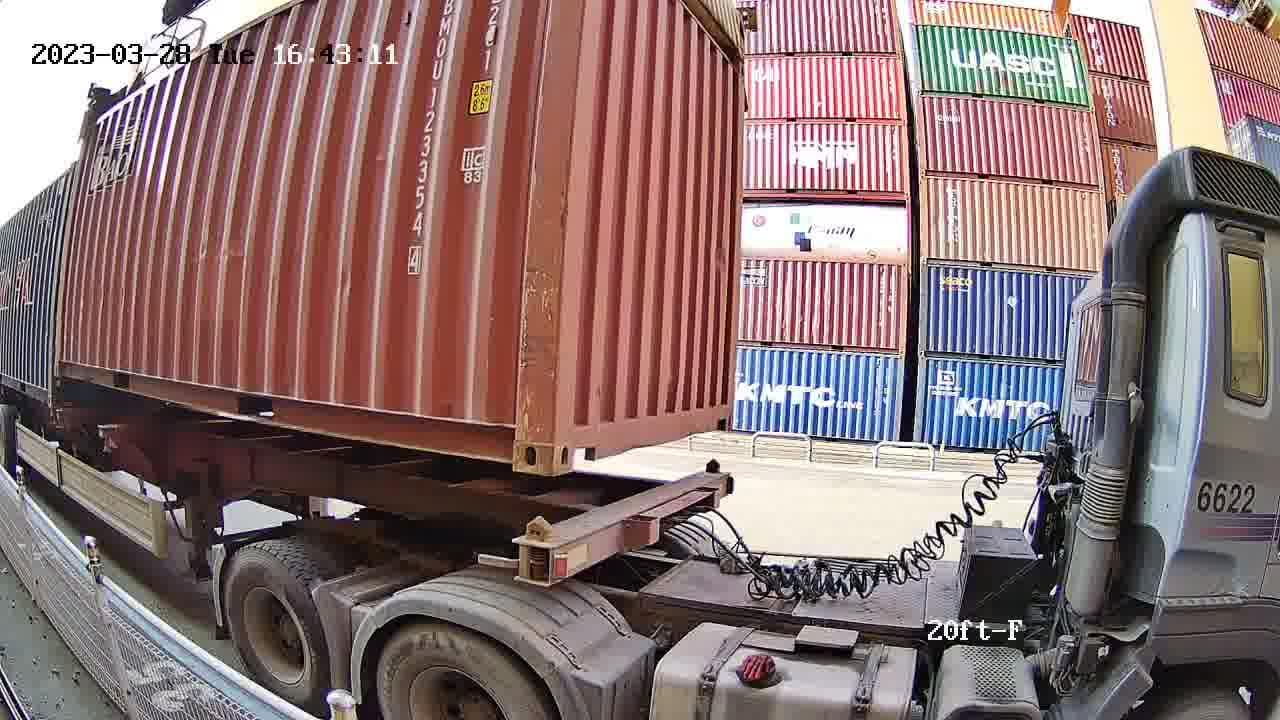Chassis: (512, 470, 729, 588)
Cone: (510, 514, 557, 587), (702, 458, 723, 475)
Hole_L: (553, 402, 605, 476)
Hole_R: (479, 393, 557, 477), (708, 396, 735, 435)
Tire: (224, 548, 326, 710), (375, 624, 544, 716)
